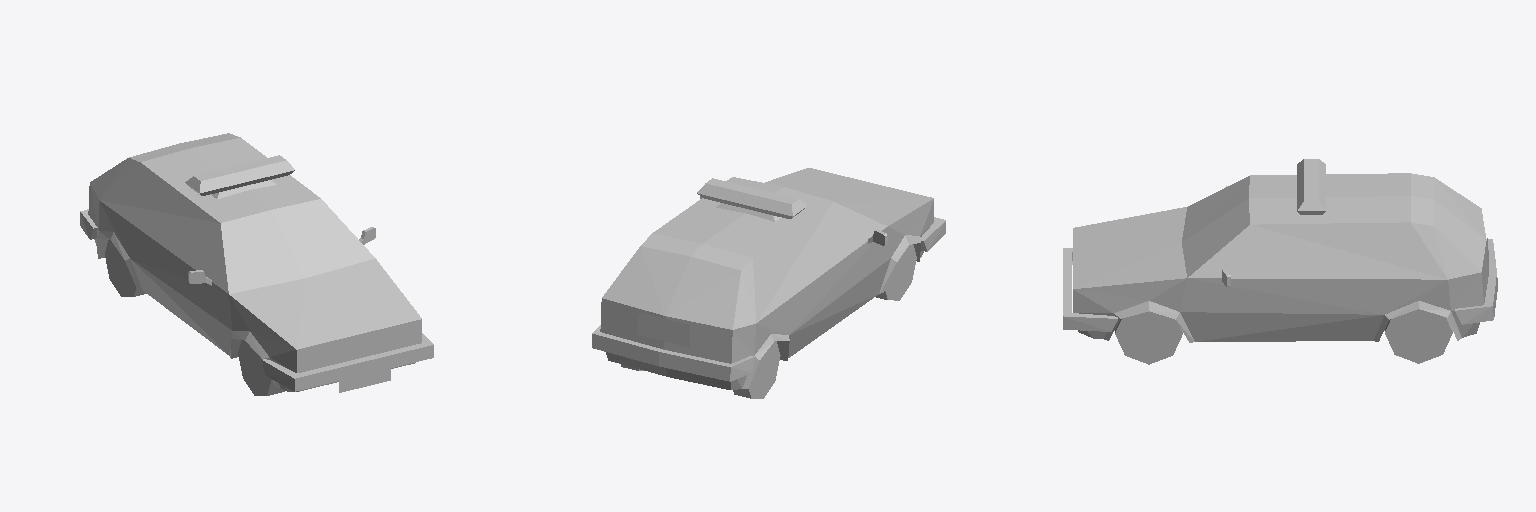
The model's file is funcar_police.obj.
3 views of the same model, side by side, from view 1: azimuth 30°, elevation 25°; view 2: azimuth 150°, elevation 25°; view 3: azimuth 270°, elevation 25° (orthographic).
Parts seen in each view (by area): view 1: Car_Main_Cube, Sirens_Cube.003, Wheel.003_Cube.005, License_Plate_Front_Cube.008, Wheel_Cube.007; view 2: Car_Main_Cube, Sirens_Cube.003, License_Plate_Back_Cube.010, Wheel_Cube.007, Wheel.003_Cube.005; view 3: Car_Main_Cube, Wheel.002_Cube.006, Wheel.001_Cube.002, Sirens_Cube.003.
Part boxes in pixels (x1,y1,x2,y2): Car_Main_Cube: (80, 133, 433, 391); Sirens_Cube.003: (185, 155, 294, 198); Wheel.003_Cube.005: (238, 340, 284, 395); License_Plate_Front_Cube.008: (339, 358, 390, 392); Wheel_Cube.007: (105, 240, 146, 296); Car_Main_Cube: (592, 168, 945, 389); Sirens_Cube.003: (697, 178, 806, 221); License_Plate_Back_Cube.010: (638, 313, 689, 347); Wheel_Cube.007: (733, 341, 780, 398); Wheel.003_Cube.005: (876, 244, 916, 300); Car_Main_Cube: (1063, 173, 1497, 342); Wheel.002_Cube.006: (1385, 309, 1452, 363); Wheel.001_Cube.002: (1115, 311, 1182, 364); Sirens_Cube.003: (1297, 159, 1325, 214).
Bounding box in the file's own units: 1.95 × 1.53 × 3.95.